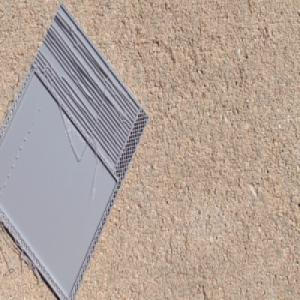PlasticPart: (0, 1, 151, 300)
